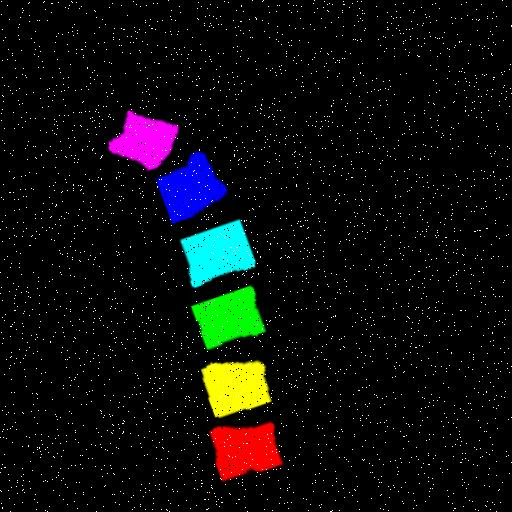L1: (208, 417, 281, 477)
L2: (200, 356, 270, 413)
L3: (190, 283, 264, 346)
L4: (177, 217, 253, 285)
L5: (155, 149, 225, 221)
S1: (106, 109, 175, 167)
